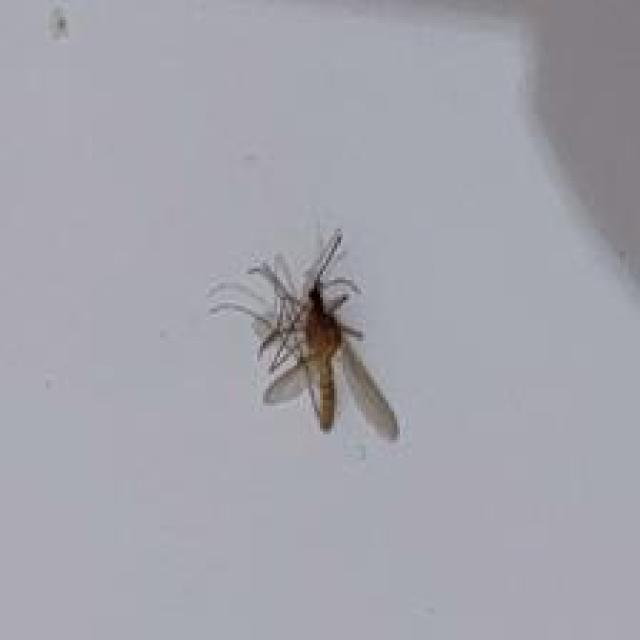Culex: (207, 227, 402, 444)
